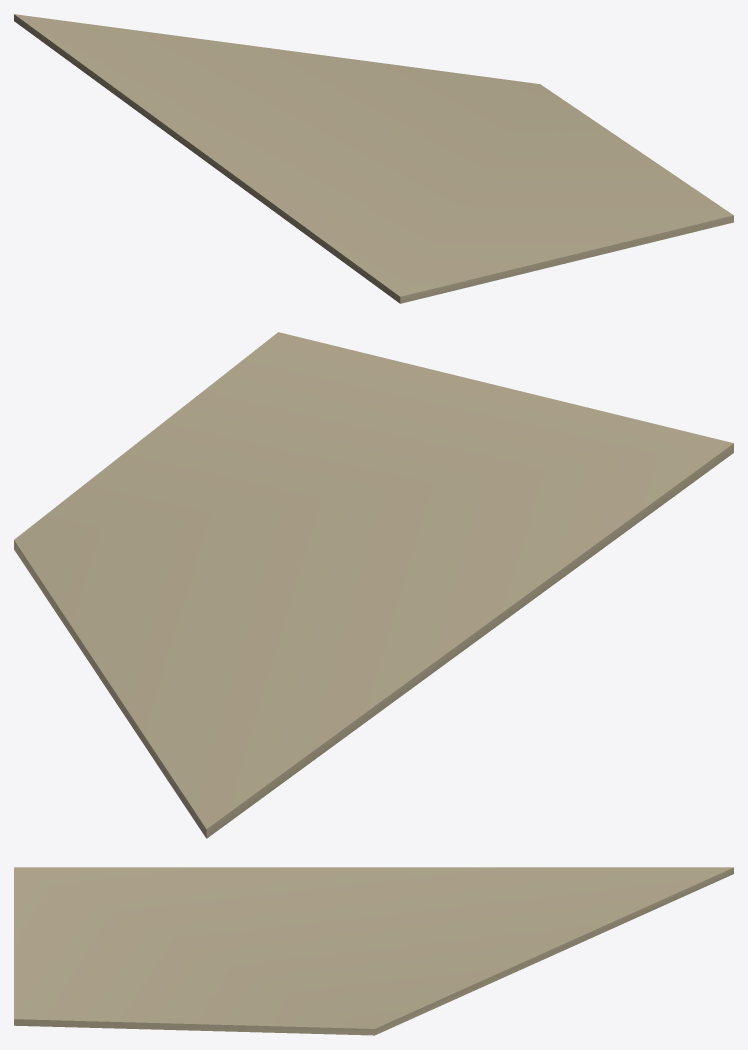
File: breach_wedge_c_12x12.glb
3 renders of one model, top to bottom at view 1: azimuth 30°, elevation 25°; view 2: azimuth 150°, elevation 25°; view 3: azimuth 270°, elevation 25°, orthographic. The views are drawn at different scales.
Visible parts, largest first — view 1: WedgeC; view 2: WedgeC; view 3: WedgeC.
Boxes of the visible parts, <box> form: WedgeC: <box>14,14,733,303</box>; WedgeC: <box>14,332,733,838</box>; WedgeC: <box>14,867,733,1035</box>.
Size of the model in its own units: 5.95 by 0.2985 by 11.93.
